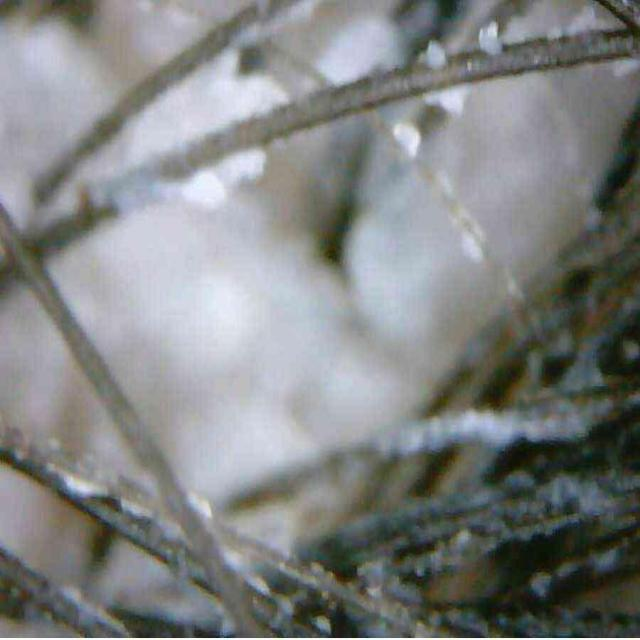d: (374, 403, 609, 456), (208, 50, 286, 119), (181, 149, 266, 209), (318, 40, 399, 84), (61, 472, 110, 498), (426, 87, 468, 116), (394, 125, 420, 156), (479, 21, 501, 55), (425, 40, 446, 64)
